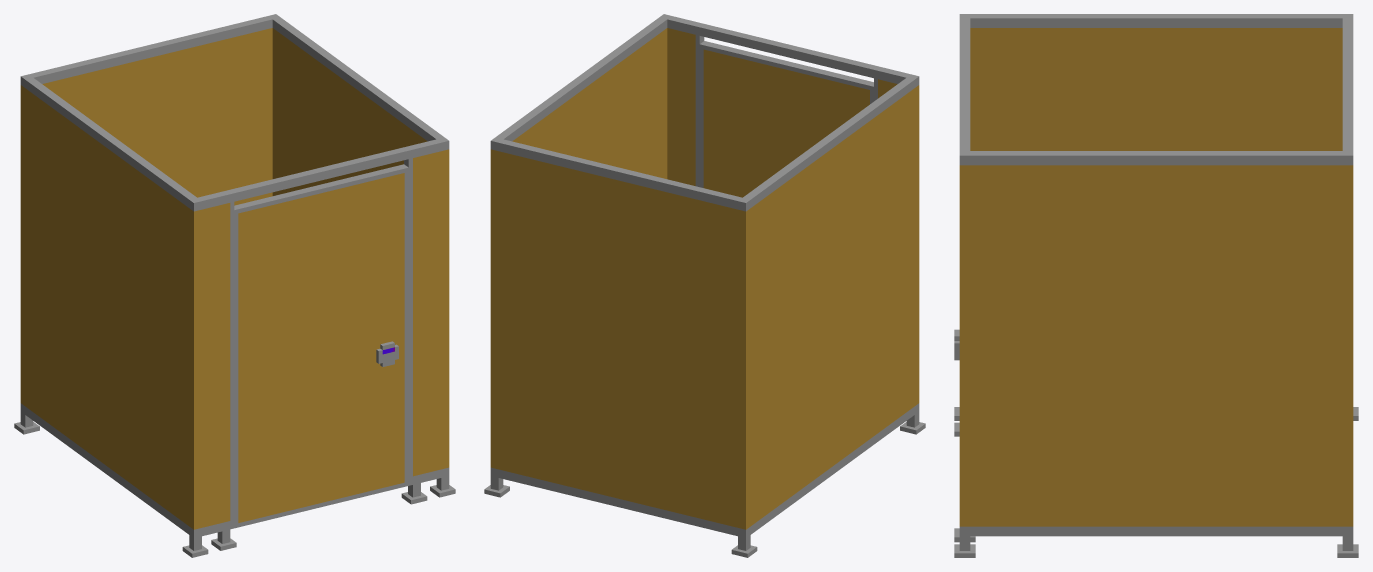
Rendered from Toilet1-4-2.fbx.
The picture shows the model from 3 angles, left to right: view 1: azimuth 30°, elevation 25°; view 2: azimuth 150°, elevation 25°; view 3: azimuth 270°, elevation 25°; orthographic projection. The views are drawn at different scales.
Parts seen in each view (by area): view 1: Toilet1-4-2.001, Toilet1-4-2.002; view 2: Toilet1-4-2.001, Toilet1-4-2.002; view 3: Toilet1-4-2.001.
Part boxes in pixels (<box>): Toilet1-4-2.001: <box>14,14,455,557</box>; Toilet1-4-2.002: <box>234,164,408,528</box>; Toilet1-4-2.001: <box>484,14,925,557</box>; Toilet1-4-2.002: <box>699,41,873,197</box>; Toilet1-4-2.001: <box>954,14,1358,557</box>.
Bounding box in the file's own units: 6.5 × 8.3 × 7.6.
